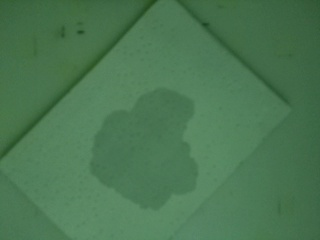Water_detected: (105, 104, 187, 189)
